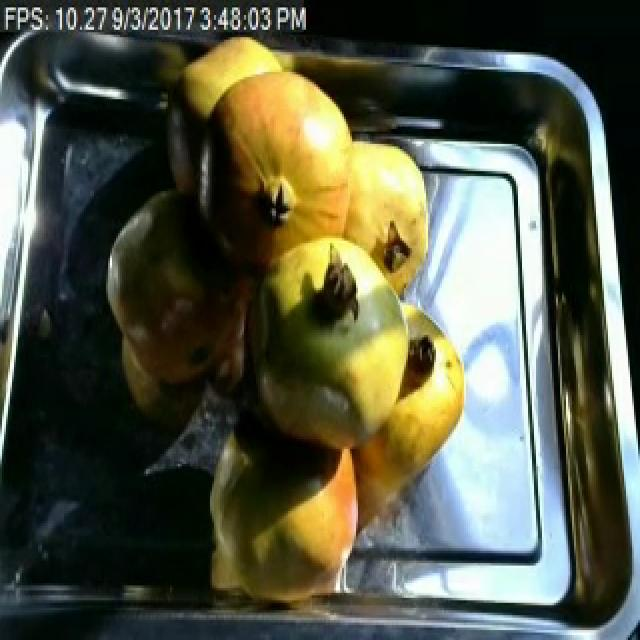fruit: (92, 174, 280, 406), (270, 117, 448, 310), (206, 62, 364, 221)
